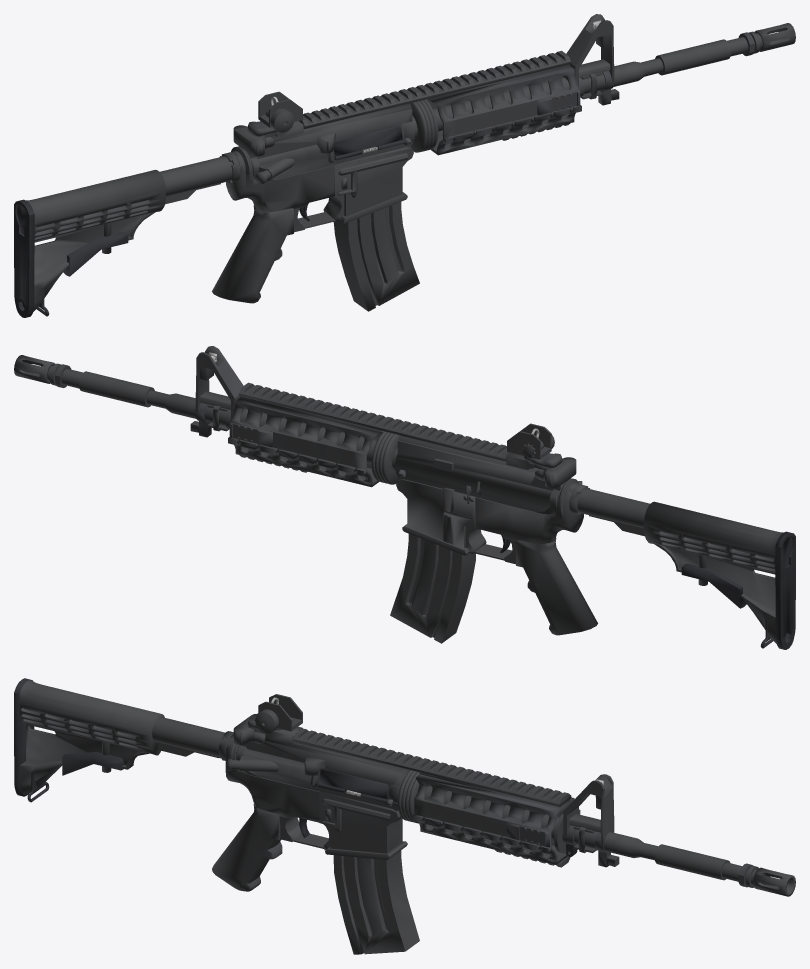
File: cargo_assault_rifle.glb
The picture shows the model from 3 angles, top to bottom: view 1: azimuth 30°, elevation 25°; view 2: azimuth 150°, elevation 25°; view 3: azimuth 330°, elevation 25°; orthographic projection.
Parts seen in each view (by area): view 1: KB3D_SIN_PropAssaultRifle_A_Main; view 2: KB3D_SIN_PropAssaultRifle_A_Main; view 3: KB3D_SIN_PropAssaultRifle_A_Main.
Part boxes in pixels (x1,y1,x2,y2): KB3D_SIN_PropAssaultRifle_A_Main: [14, 14, 795, 317]; KB3D_SIN_PropAssaultRifle_A_Main: [14, 346, 795, 649]; KB3D_SIN_PropAssaultRifle_A_Main: [14, 678, 795, 954].
Size of the model in its own units: 1 by 0.2861 by 0.0798.
Materials: 2 (2 with a texture image).
